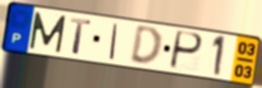1: (210, 35, 228, 78)
D: (128, 25, 163, 68)
I: (108, 22, 120, 62)
M: (28, 10, 68, 54)
P: (167, 30, 205, 72)
T: (69, 16, 93, 57)
